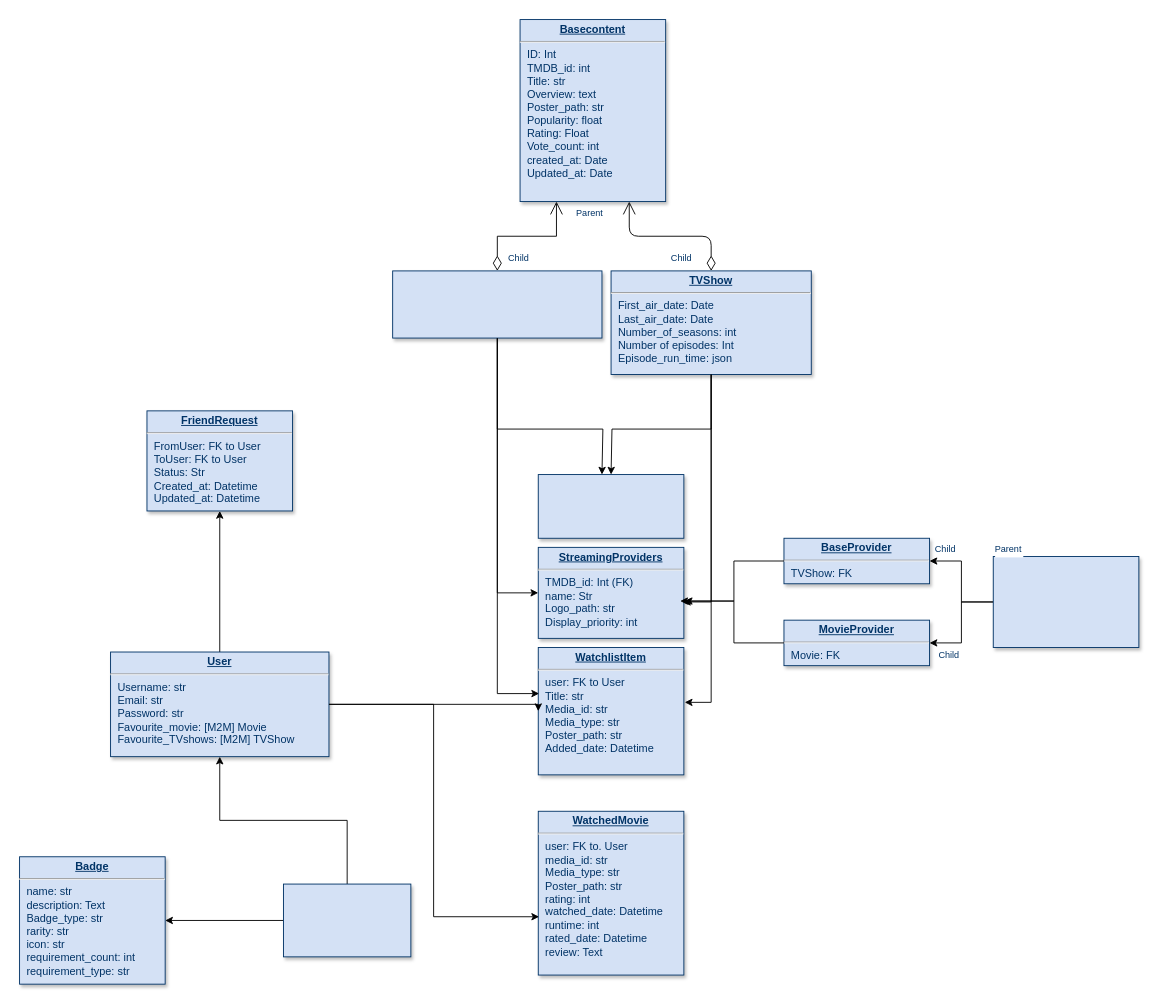
The diagram is 1160 pixels wide and 1006 high, and some of its shapes have lost their labels. Each missing label, with the centre of its shape:
BaseProvider Provider: FK Region: str Type: str Updated_at: date: point (1066, 603)
Genre TMDB_id: Int (FK) name: Str: point (611, 507)
Movie Realease date: Date Runtime: int: point (497, 305)
UserBadge user: FK to user badge: FK to Badge earned_date: Datetime: point (347, 921)
